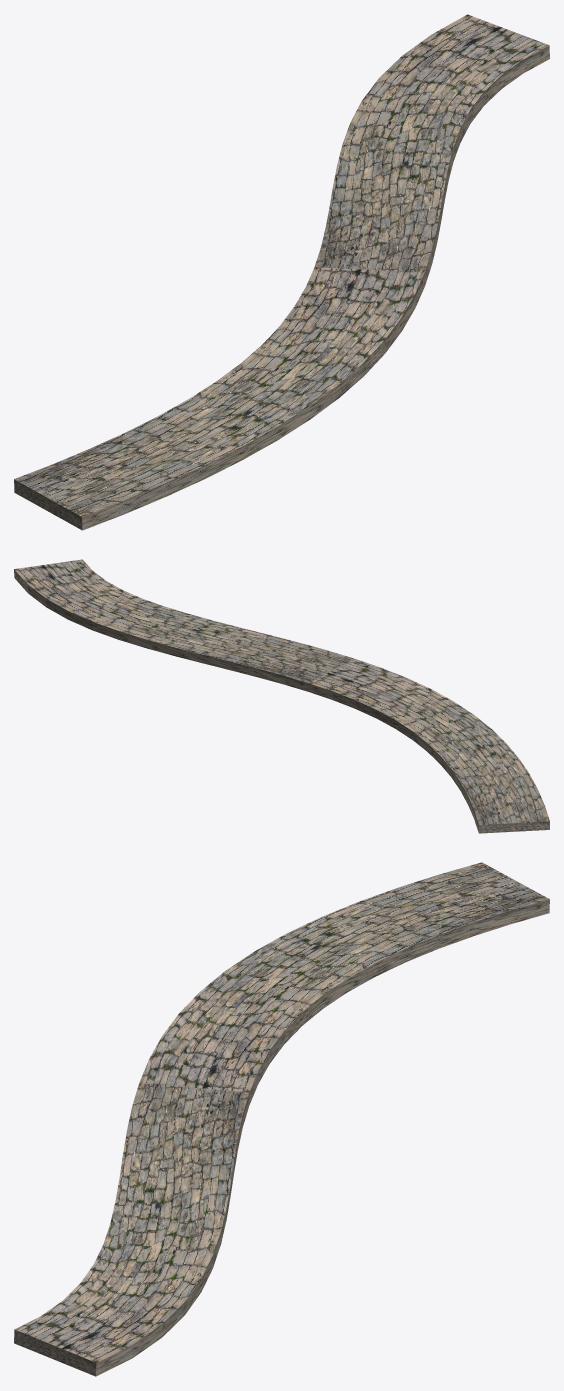
Rendered from road.obj.
The picture shows the model from 3 angles, top to bottom: view 1: azimuth 90°, elevation 25°; view 2: azimuth 150°, elevation 25°; view 3: azimuth 270°, elevation 25°; orthographic projection. The views are drawn at different scales.
Parts seen in each view (by area): view 1: Cube.001; view 2: Cube.001; view 3: Cube.001.
Part boxes in pixels (x1=…): Cube.001: x1=14, y1=14, x2=549, y2=530; Cube.001: x1=14, y1=559, x2=549, y2=833; Cube.001: x1=14, y1=862, x2=549, y2=1376.
Size of the model in its own units: 21.27 by 0.5385 by 9.6.
1 material, 1 textured.
